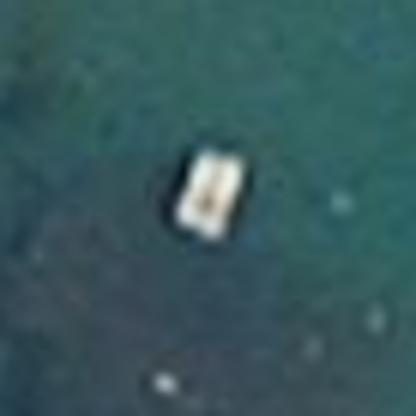ship: (155, 126, 261, 257)
